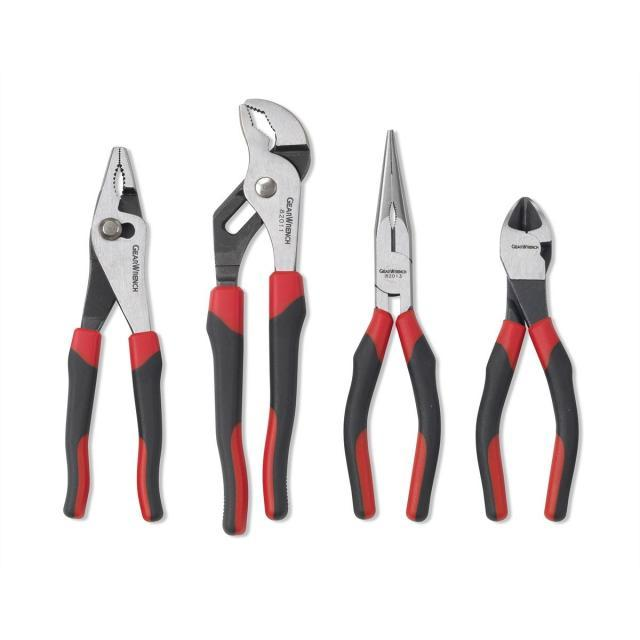pliers: (198, 94, 315, 540), (336, 124, 446, 526), (58, 140, 171, 526), (468, 192, 586, 526)
